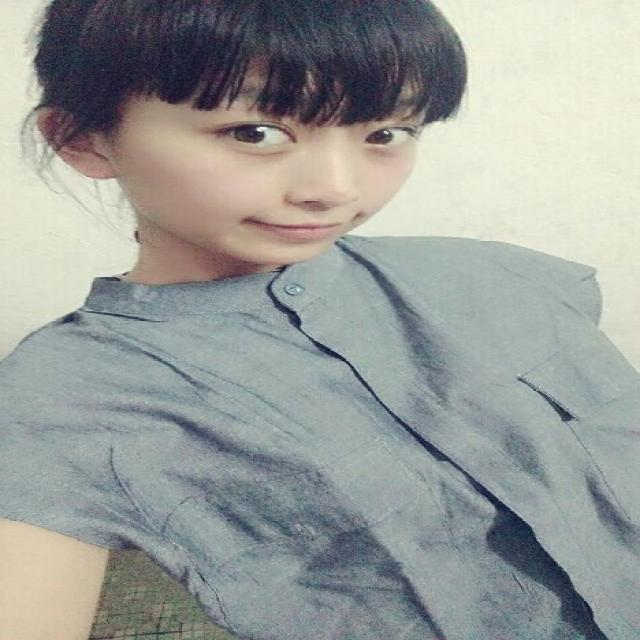short-sleeve-top: (37, 253, 640, 636)
